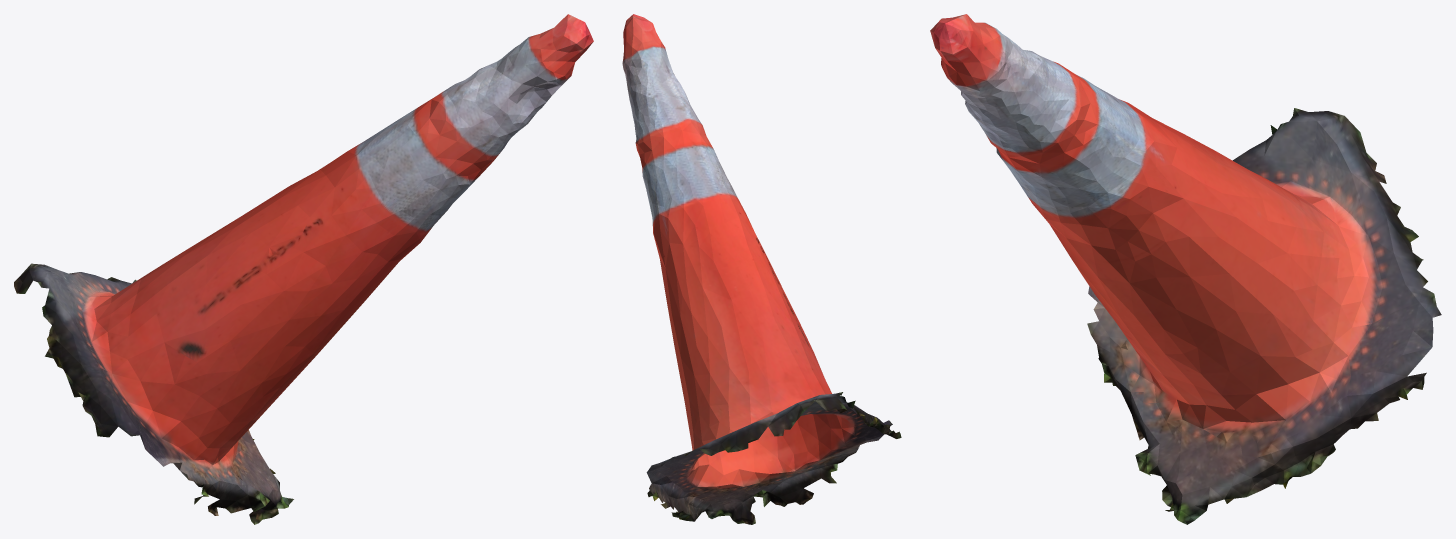
The model's file is TrafficCone.fbx.
3 views of the same model, side by side, from view 1: azimuth 30°, elevation 25°; view 2: azimuth 150°, elevation 25°; view 3: azimuth 270°, elevation 25° (orthographic). The views are drawn at different scales.
Parts seen in each view (by area): view 1: Mesh_0; view 2: Mesh_0; view 3: Mesh_0.
Boxes of the visible parts, x1,y1,x2,y2 form: Mesh_0: (14,14,593,524); Mesh_0: (622,14,901,524); Mesh_0: (930,14,1441,524).
Bounding box in the file's own units: 45.78 × 52.59 × 38.89.
